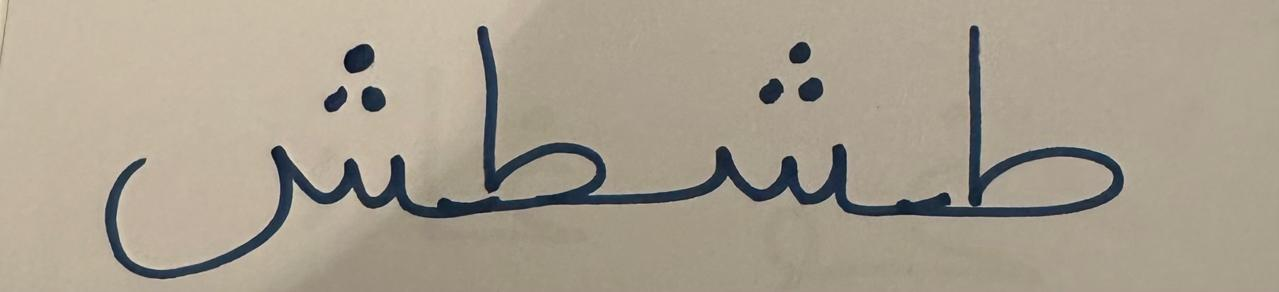tah: (27, 1, 435, 292), (656, 0, 882, 254)
teh: (885, 4, 1164, 262), (438, 6, 653, 255)
